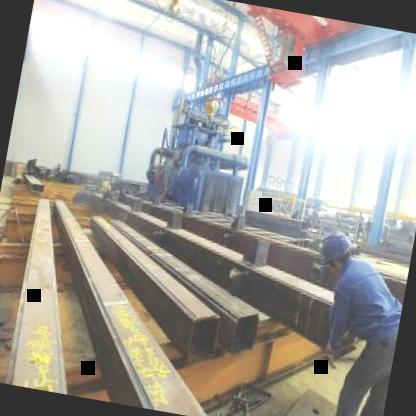helmet: (314, 228, 356, 279)
